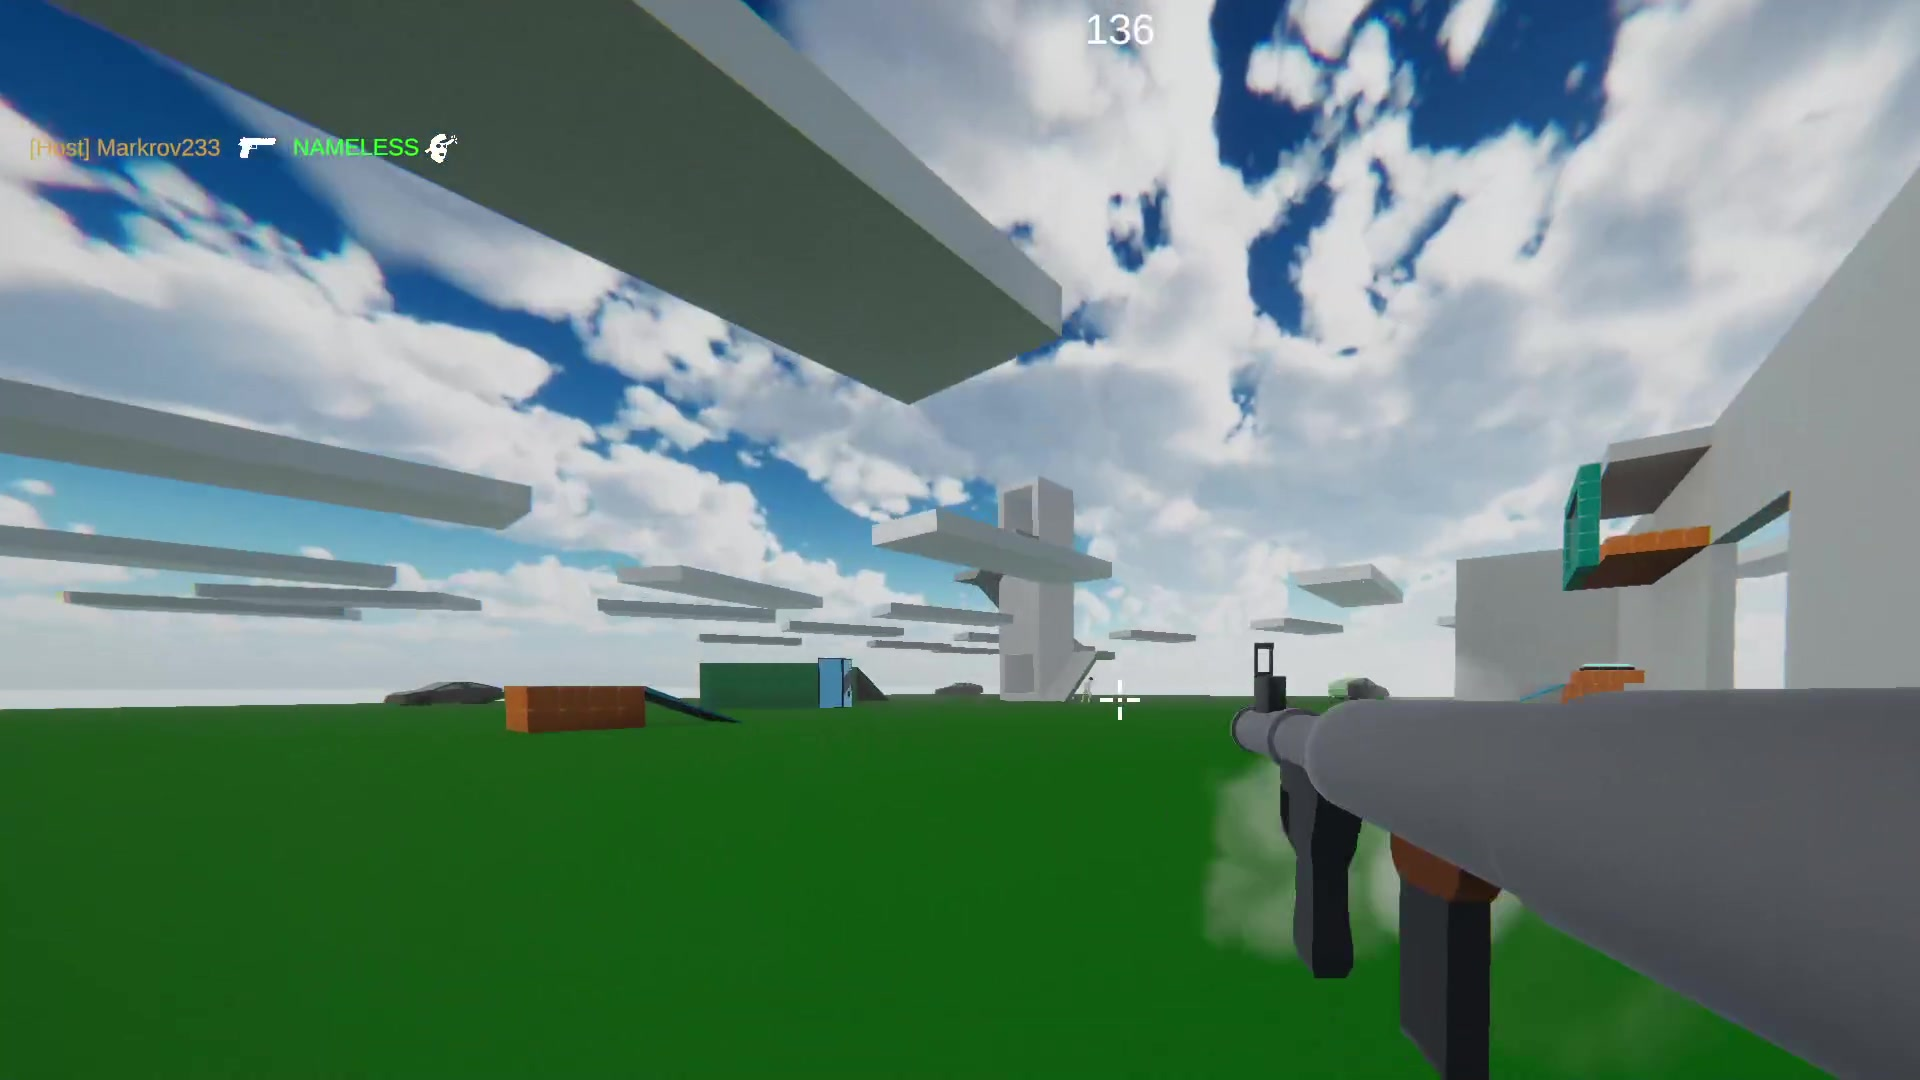human: (1080, 668, 1097, 705)
